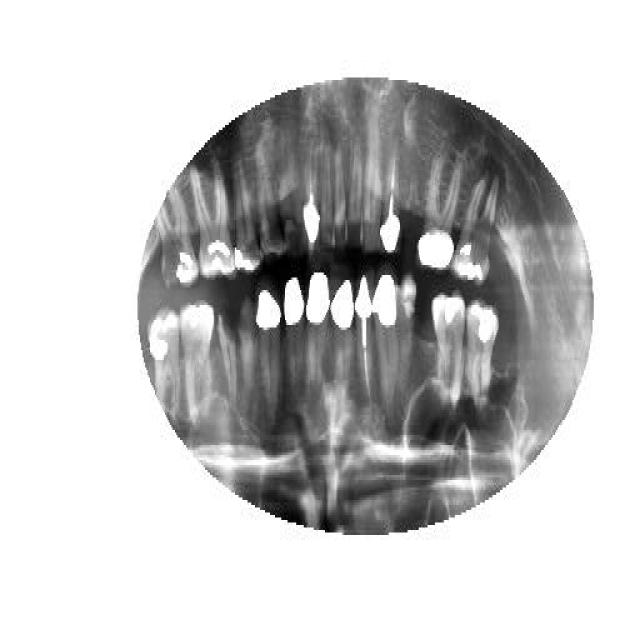Cavity: (451, 177, 499, 285), (159, 188, 199, 292), (276, 150, 309, 260), (215, 305, 239, 410)
Fillings: (192, 160, 236, 288), (450, 177, 500, 285), (416, 155, 460, 277), (159, 185, 199, 290), (255, 288, 284, 428), (432, 295, 468, 407), (465, 300, 500, 412), (148, 308, 182, 420), (372, 270, 398, 410), (306, 270, 330, 415), (330, 280, 354, 418), (283, 275, 305, 413), (234, 160, 261, 272)
Implant: (379, 138, 406, 260), (354, 275, 374, 407), (302, 135, 322, 255)
